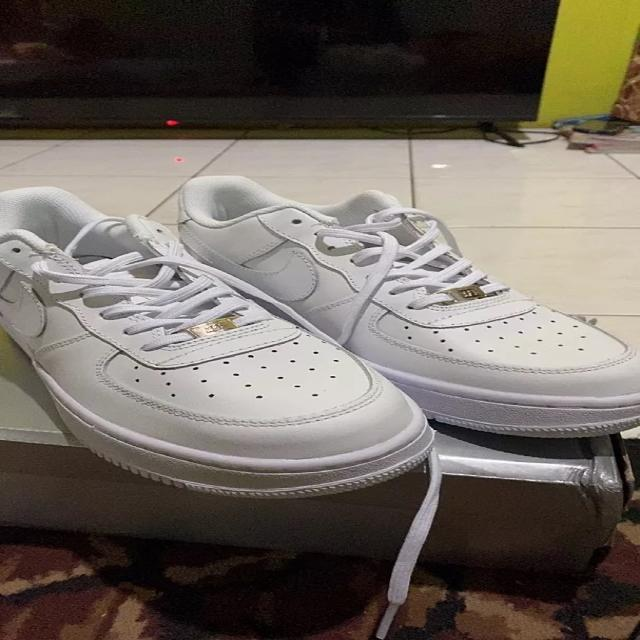nike fake air force: (0, 188, 442, 496), (176, 170, 640, 437)
